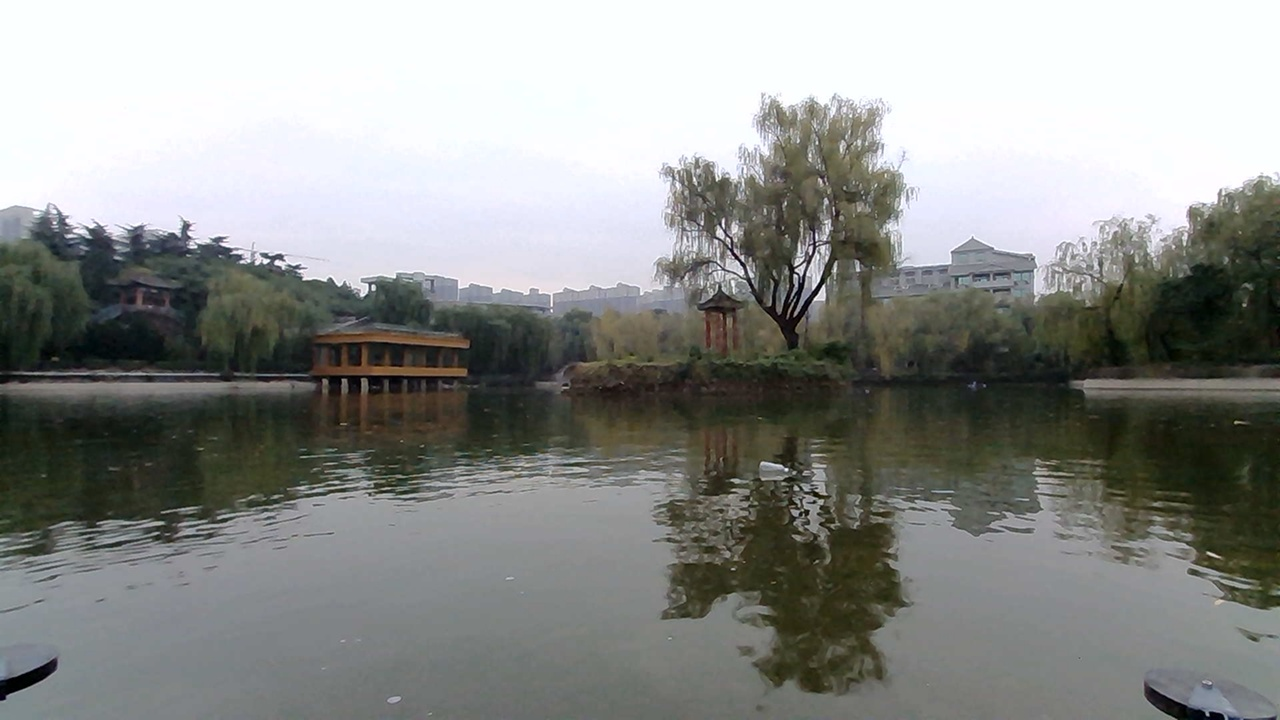bottle: (743, 449, 807, 482)
